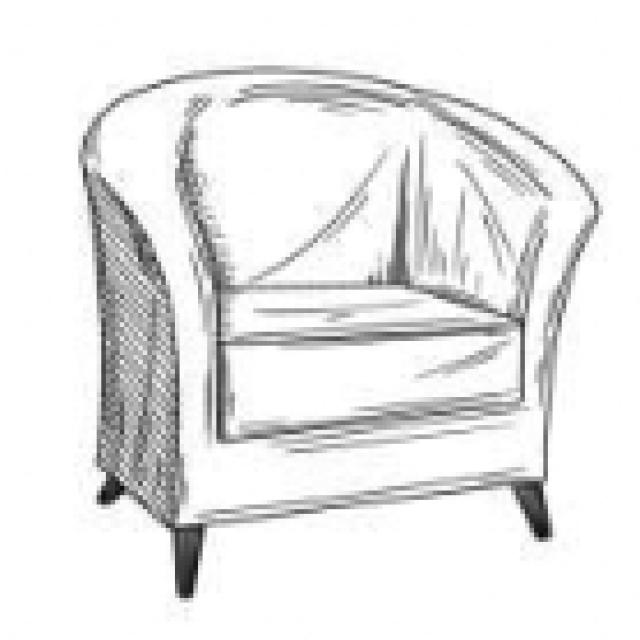Armrest: (399, 100, 605, 480), (77, 153, 223, 527)
Backrest: (79, 59, 457, 279)
Leg_Structure: (91, 464, 569, 611)
Seat: (217, 282, 523, 518)
